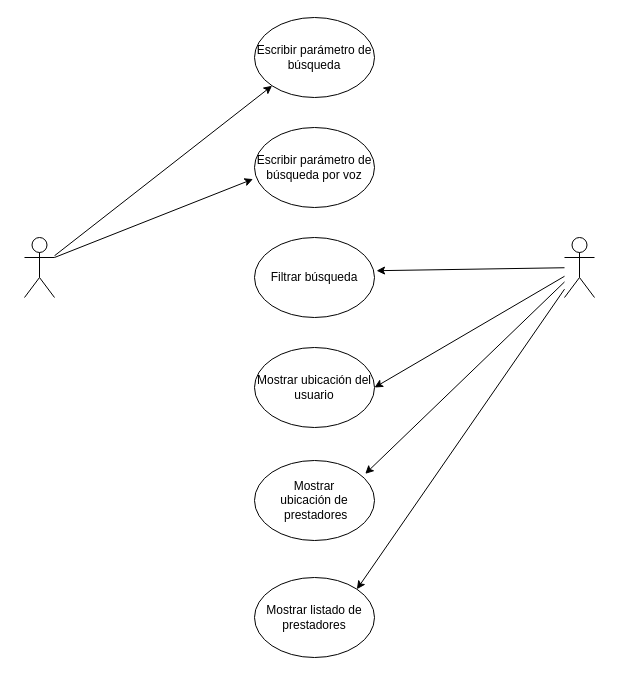
The diagram is 618 pixels wide and 675 high, and some of its shapes have lost their labels. The shapes that lost their labels are listed below. From the top down, each one's centre as x and y in pixels, then its label:
At point (39, 267): "Persona".
At point (579, 267): "Sistema".
